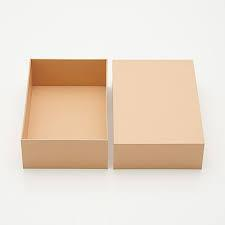box: (113, 59, 206, 171), (21, 59, 107, 168)
